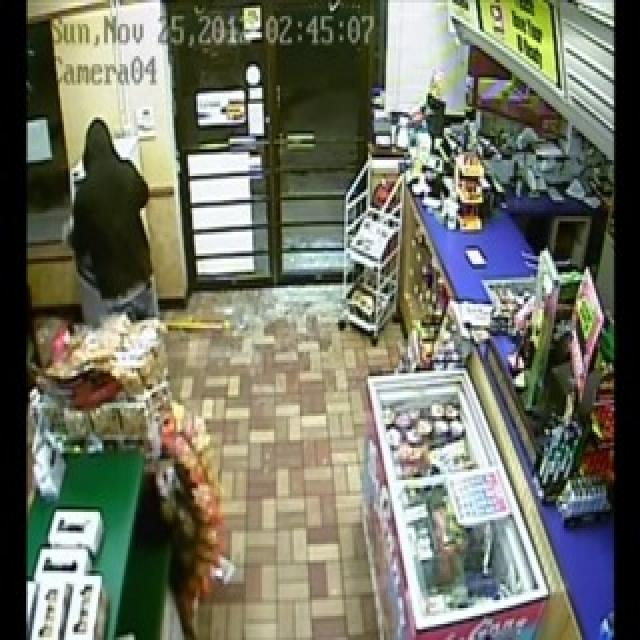thief: (61, 110, 163, 349)
